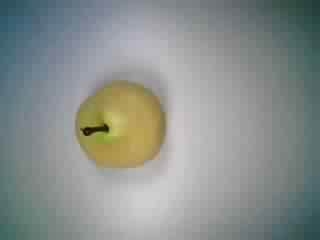pear: (56, 70, 180, 176)
